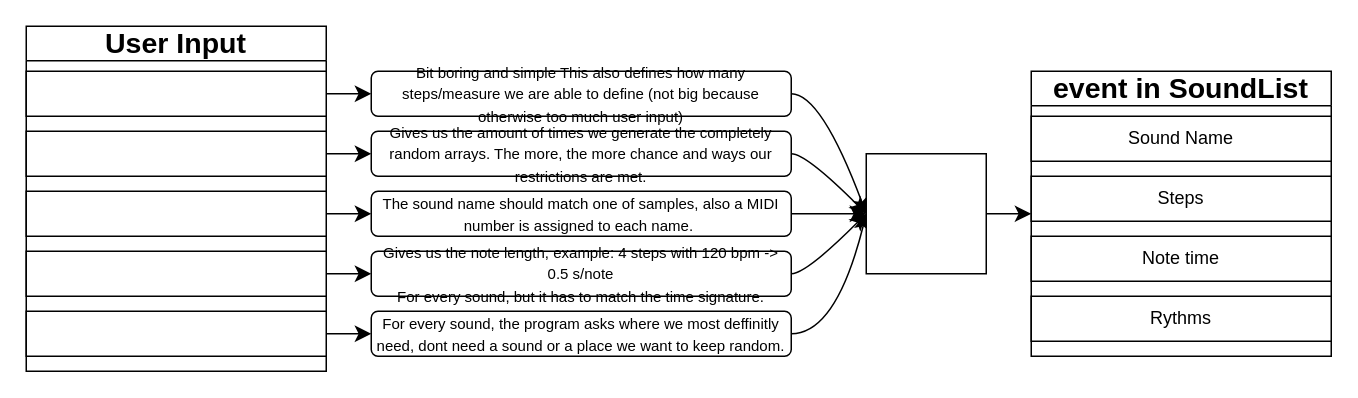
Image size: 1358x398. Some labels were removed from this diagram. The shapes that lost their labels are listed below. From the top down, each one's centre as x and y in pixels, then its label:
At point (175, 93): "Time signature".
At point (175, 153): "How many times do we generate".
At point (175, 213): "Sound name?".
At point (925, 213): "generating checking and calculations...".
At point (175, 273): "Steps/Measure".
At point (175, 333): "Beat restrictions".
